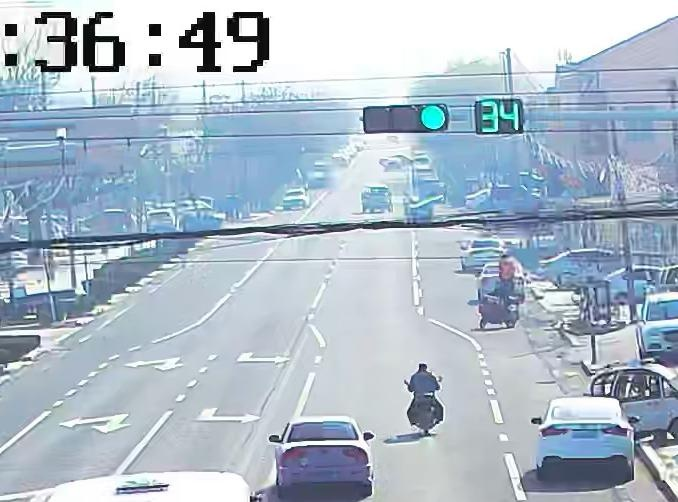green: (416, 105, 449, 131)
greentime: (478, 100, 523, 135)
